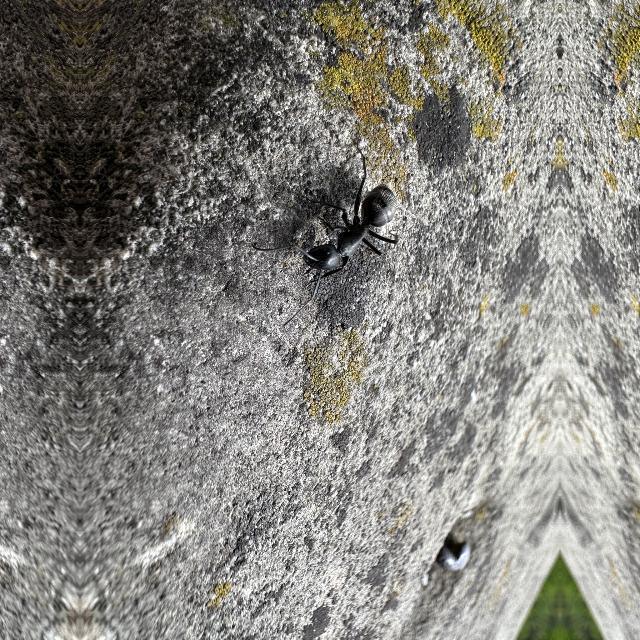Camponotus: (304, 177, 402, 296)
